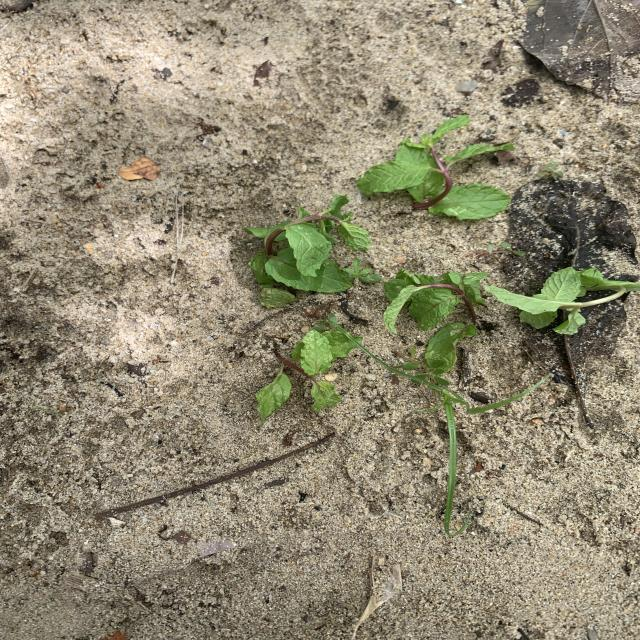crop: (357, 117, 512, 219), (247, 194, 370, 305), (384, 270, 487, 374), (256, 323, 360, 422), (486, 267, 639, 334)
weed: (363, 346, 543, 535), (343, 259, 380, 283), (477, 241, 526, 258), (542, 162, 563, 179)
